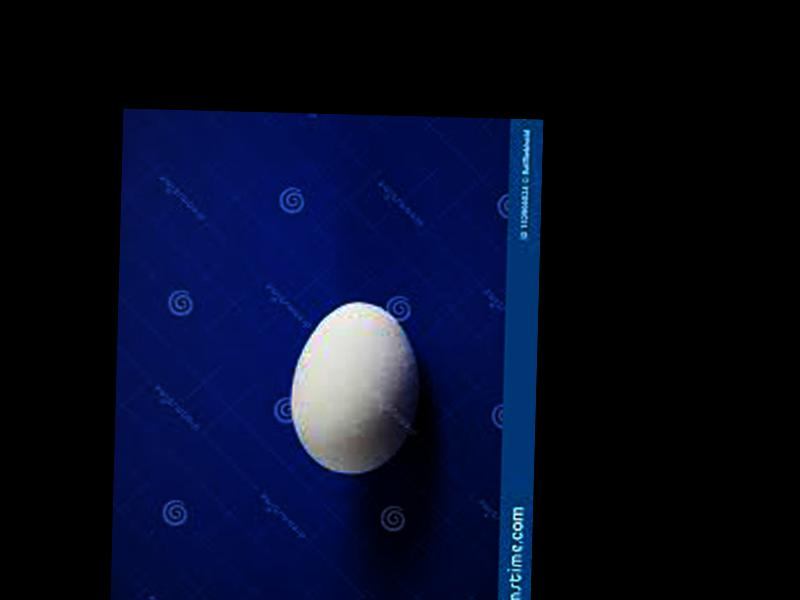Eggs: (290, 299, 422, 476)
